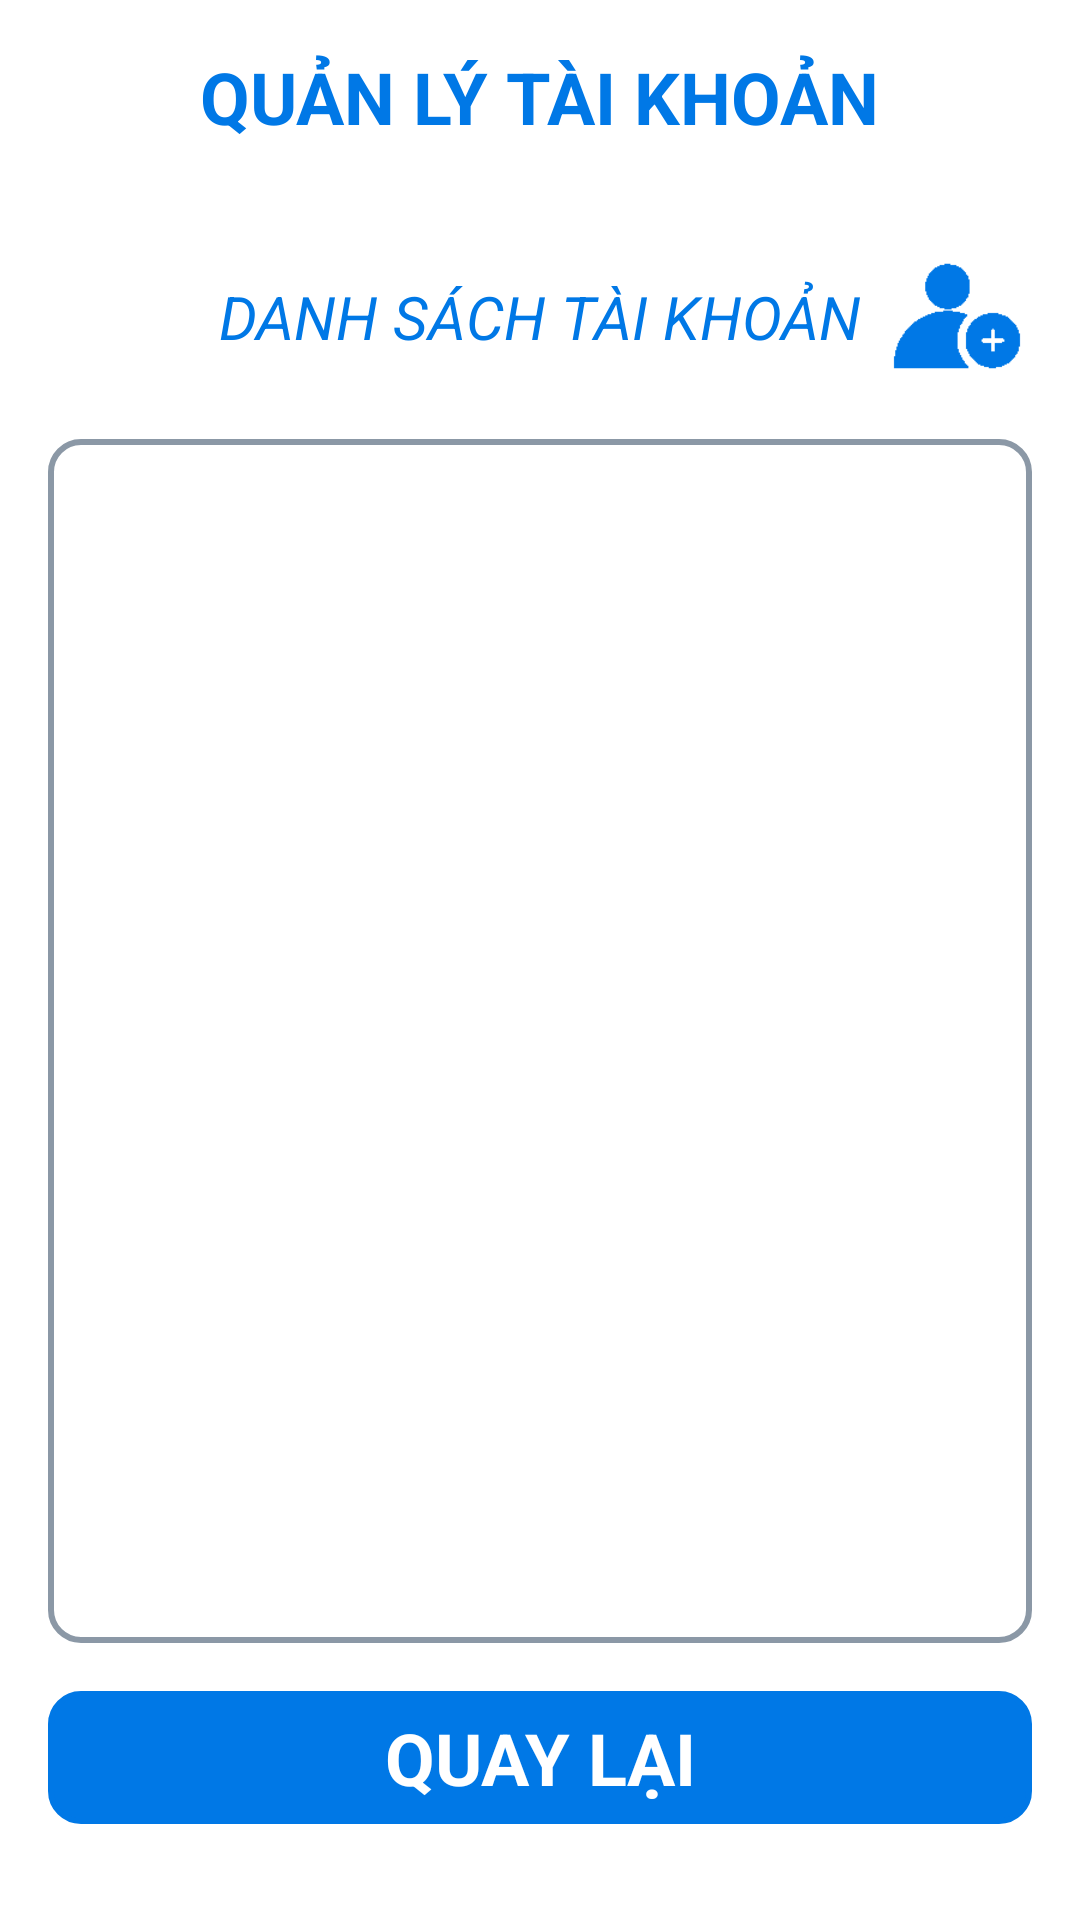

Screen size 1080 x 1920. Icon name, then its box in pixels as region(x1, y1, x2, y2):
add: region(894, 263, 1020, 369)
